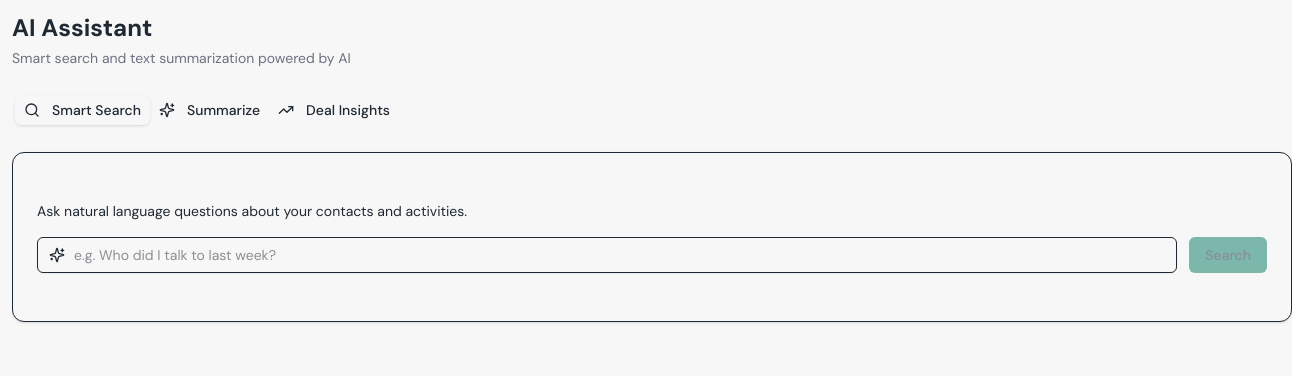
Test: AiPanelPage › displays search error message (branch at line 120)
The width and height of the screenshot is (1292, 376).
Type "search that fails" into the field with placeholder "e.g. Who did I talk to last week?" at [607, 255], box 37,237 -> 1177,273
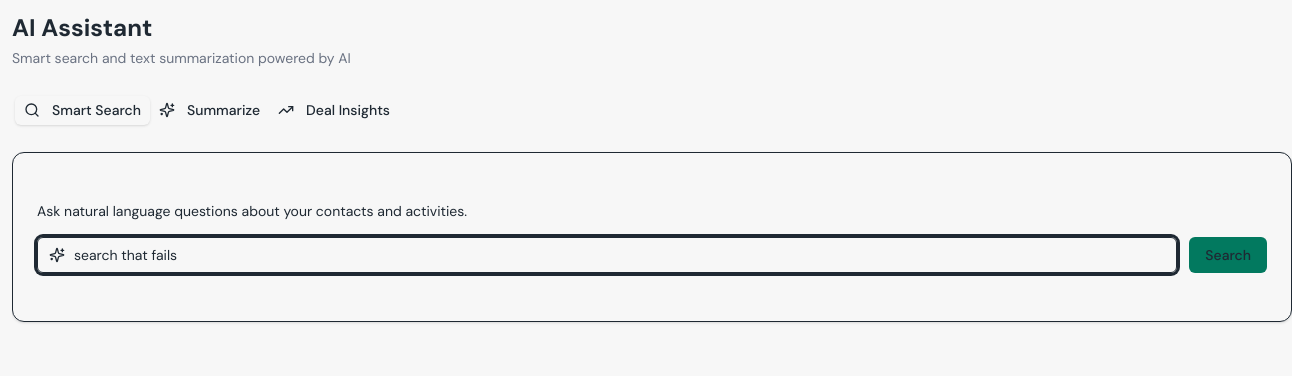
Click the button "Search" at [1228, 255], box 1189,237 -> 1267,273
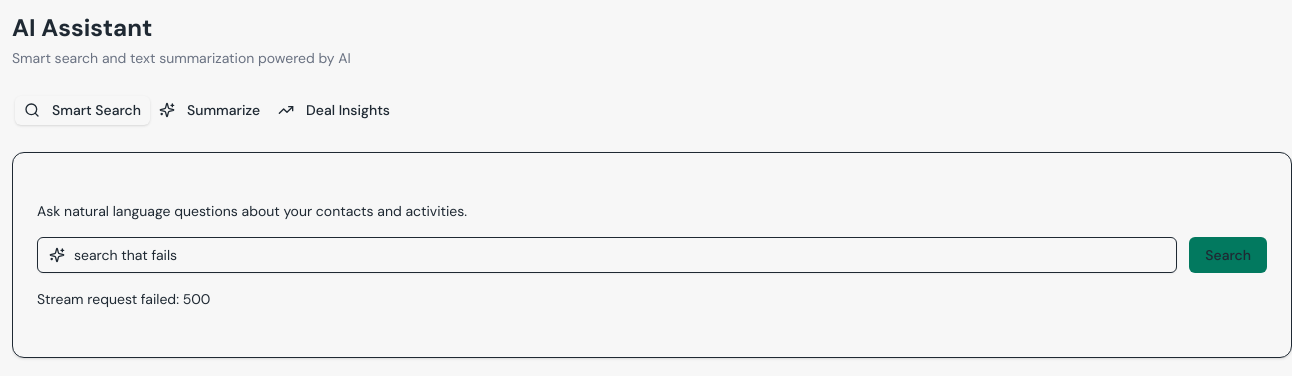
Check: the text "Stream request failed: 500" is shown, box 37,290 -> 210,308
